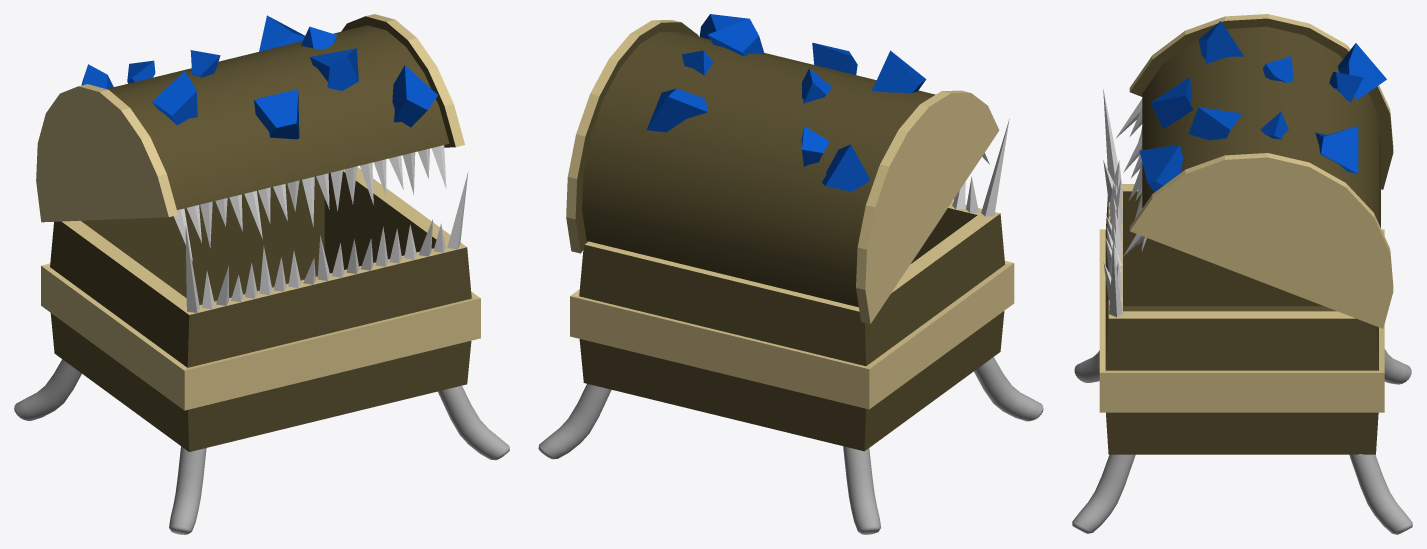
The model's file is normal_enemy.fbx.
3 renders of one model, left to right at view 1: azimuth 30°, elevation 25°; view 2: azimuth 150°, elevation 25°; view 3: azimuth 270°, elevation 25°, orthographic.
Visible parts, largest first — view 1: pCube1, pCylinder3, pCylinder4, pCylinder7, pCylinder5, pCube5, pCube6, pCube2, pCube4, pCube7, pPyramid2, pCube3; view 2: pCylinder3, pCube1, pCylinder6, pCylinder5, pCylinder4, pCube7, pCube9, pCube2, pCube4, pCube5, pPyramid2, pCube10 (+2 smaller); view 3: pCylinder3, pCube1, pCylinder6, pCylinder7, pCube6, pCube7, pCube9, pCube5, pCube4, pCube2, pCylinder5, pCube3 (+5 smaller).
Part boxes in pixels (bbox=[...]): pCube1: bbox=[41, 167, 480, 451]; pCylinder3: bbox=[36, 14, 464, 222]; pCylinder4: bbox=[169, 446, 206, 534]; pCylinder7: bbox=[438, 385, 509, 460]; pCylinder5: bbox=[14, 359, 81, 420]; pCube5: bbox=[254, 89, 299, 139]; pCube6: bbox=[392, 65, 437, 127]; pCube2: bbox=[152, 71, 197, 125]; pCube4: bbox=[310, 48, 358, 90]; pCube7: bbox=[259, 15, 304, 51]; pPyramid2: bbox=[185, 225, 199, 312]; pCube3: bbox=[190, 50, 220, 77]; pCylinder3: bbox=[566, 20, 999, 324]; pCube1: bbox=[570, 201, 1014, 451]; pCylinder6: bbox=[538, 383, 611, 459]; pCylinder5: bbox=[843, 446, 880, 534]; pCylinder4: bbox=[974, 357, 1043, 421]; pCube7: bbox=[647, 88, 707, 132]; pCube9: bbox=[822, 144, 869, 191]; pCube2: bbox=[872, 50, 926, 93]; pCube4: bbox=[707, 18, 764, 56]; pCube5: bbox=[812, 42, 857, 74]; pPyramid2: bbox=[981, 118, 1009, 216]; pCube10: bbox=[801, 126, 829, 166]; pCylinder3: bbox=[1129, 14, 1393, 328]; pCube1: bbox=[1099, 184, 1384, 454]; pCylinder6: bbox=[1349, 454, 1412, 534]; pCylinder7: bbox=[1072, 454, 1135, 533]; pCube6: bbox=[1139, 144, 1183, 192]; pCube7: bbox=[1315, 126, 1358, 173]; pCube9: bbox=[1338, 43, 1386, 99]; pCube5: bbox=[1151, 77, 1193, 128]; pCube4: bbox=[1188, 107, 1242, 140]; pCube2: bbox=[1198, 21, 1243, 64]; pCylinder5: bbox=[1384, 349, 1411, 384]; pCube3: bbox=[1263, 56, 1293, 82].
Size of the model in its own units: 5.39 by 6.05 by 4.73.
